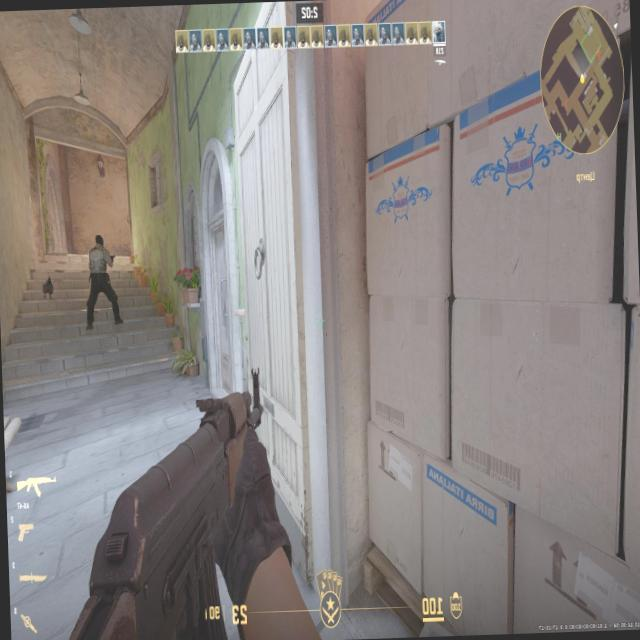T: (91, 232, 110, 302)
T_heat: (94, 237, 100, 249)
